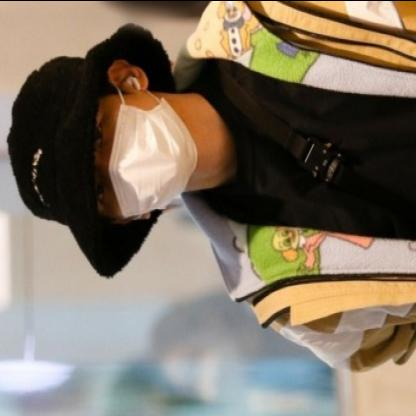hat: (1, 17, 182, 280)
